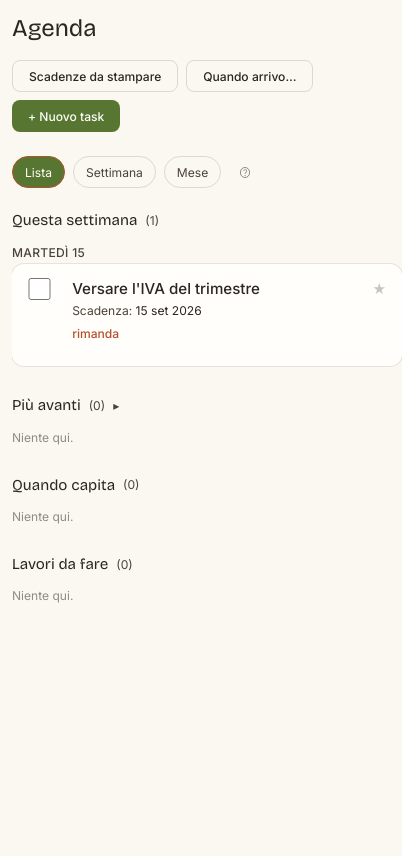
it: 🔴 «fatto» dall'Agenda, dalla strada condivisa › un ricorrente: completaTask col solo identificativo, la frase del successivo, e l'elenco riletto
What coordinates should you click on to do the following:
click the checkbox named "Segna fatto: Versare l'IVA del trimestre"
I would click on:
 (39, 289)
Its box is [28,278,51,300].
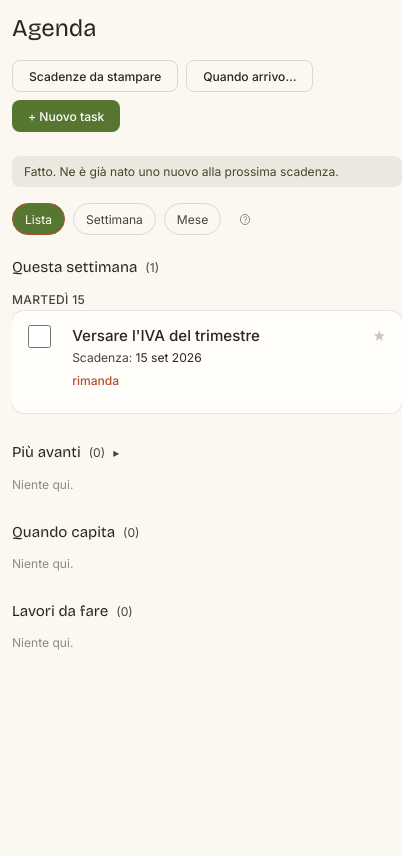
Now the text "Fatto. Ne è già nato uno nuovo alla prossima scadenza." is shown, box [12,156,401,187]
